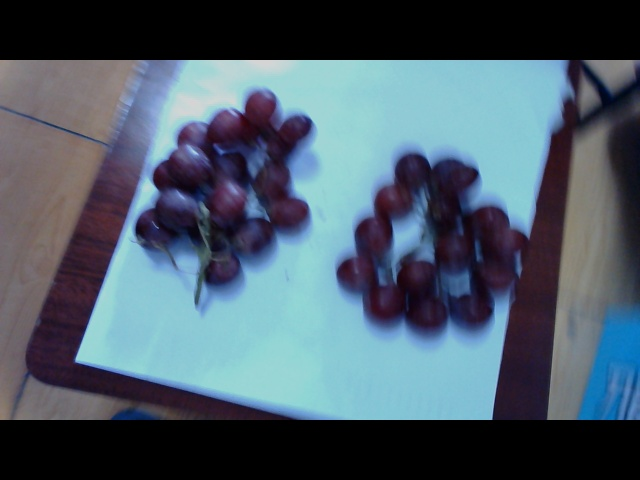grape: (138, 97, 327, 295), (334, 141, 519, 343)
